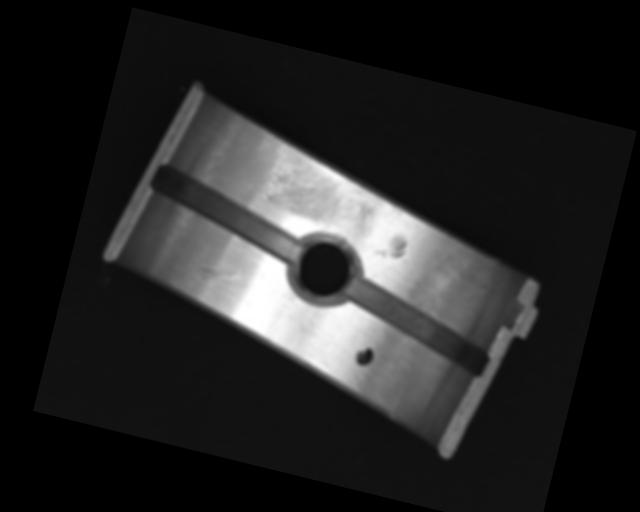blot: (353, 345, 375, 368)
bruise: (372, 229, 410, 263), (388, 202, 405, 217)
gap: (335, 274, 499, 380), (143, 163, 312, 264)
hole: (280, 225, 367, 313)
nick: (194, 262, 251, 290)
scratch: (255, 149, 388, 243)
